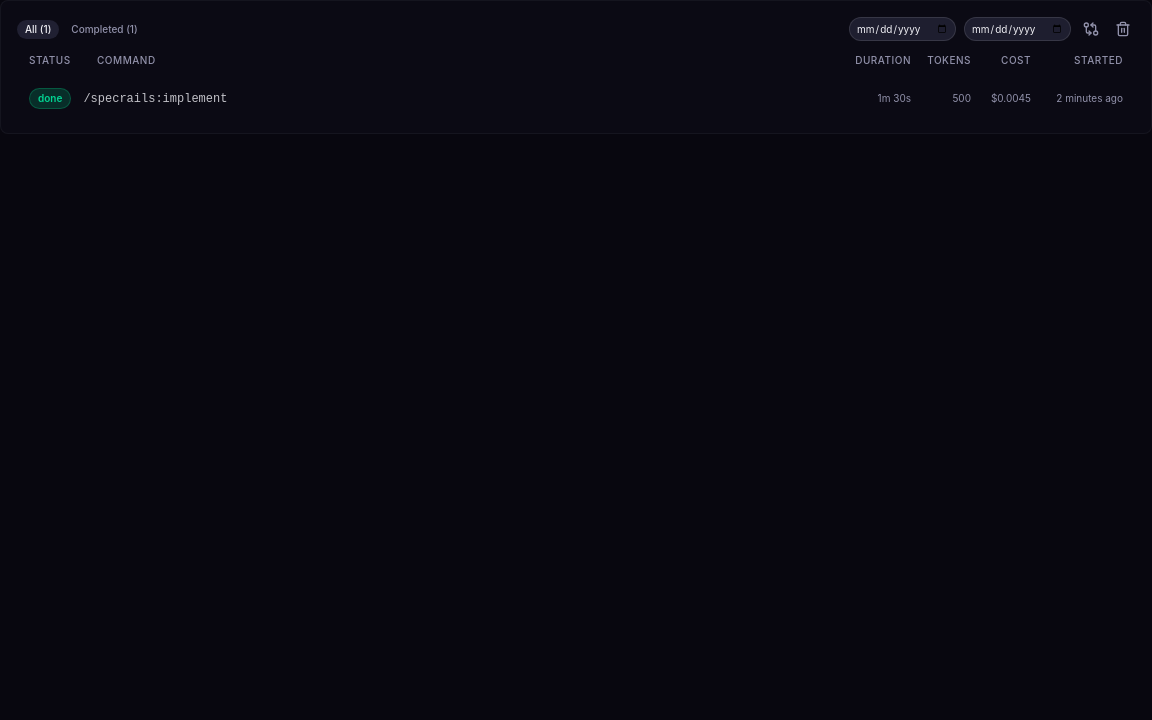
it: RecentJobs - extended coverage › handleClear - date range mode › closes clear modal when Cancel is clicked
This screenshot has width=1152, height=720.
Click the 4th button at (1123, 29), box left=1111, top=17, right=1135, bottom=41
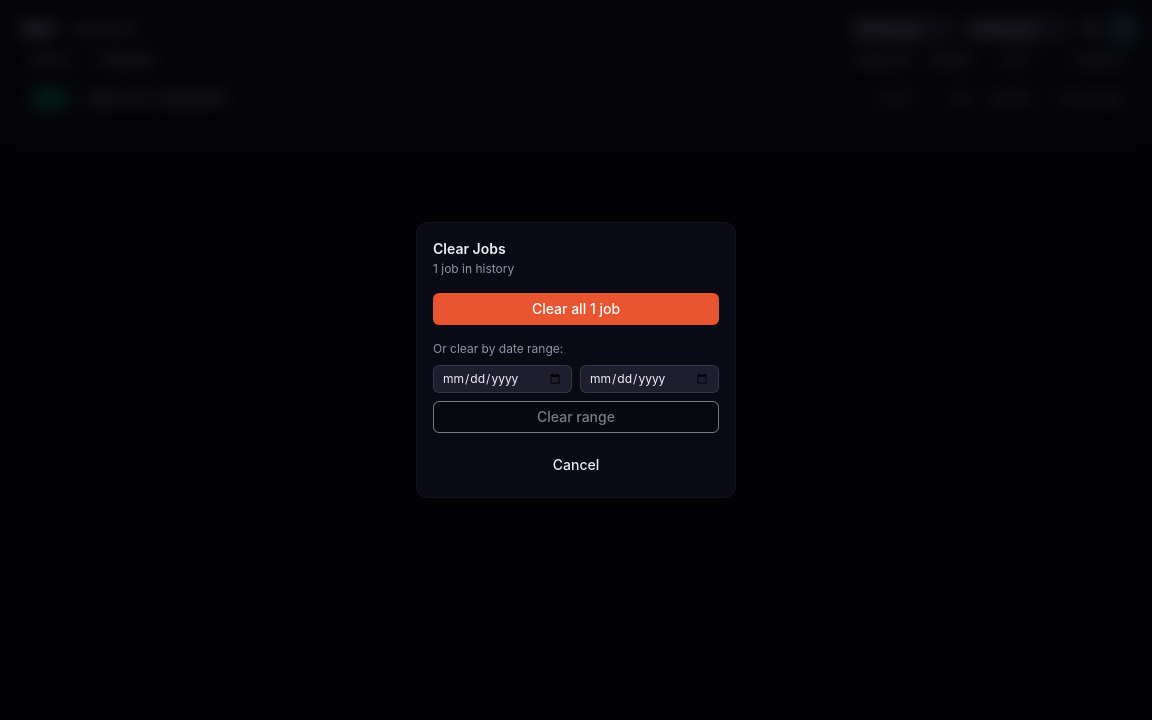
Check: the heading "Clear Jobs" is shown, box left=433, top=240, right=506, bottom=257
Click the button "Cancel" at (576, 465), box left=433, top=449, right=719, bottom=481
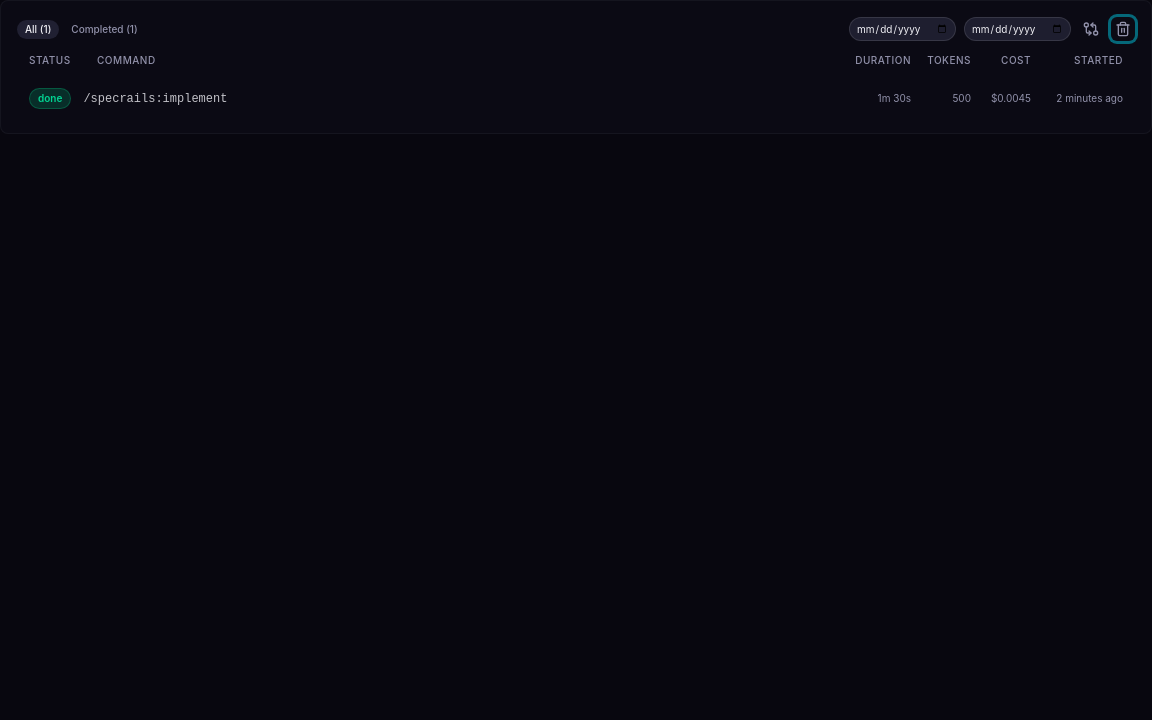
Check: the heading "Clear Jobs" is gone
